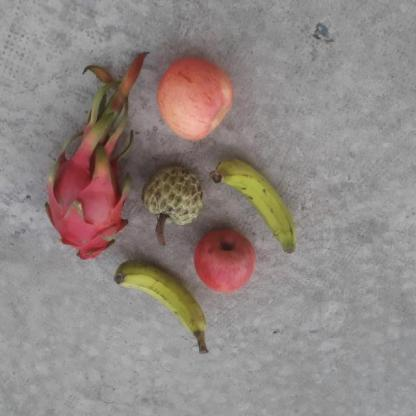annona: (140, 164, 204, 227)
apple: (143, 55, 252, 147), (188, 235, 260, 295)
banana: (206, 156, 320, 254), (112, 265, 205, 343)
pitaya: (39, 146, 135, 259)
